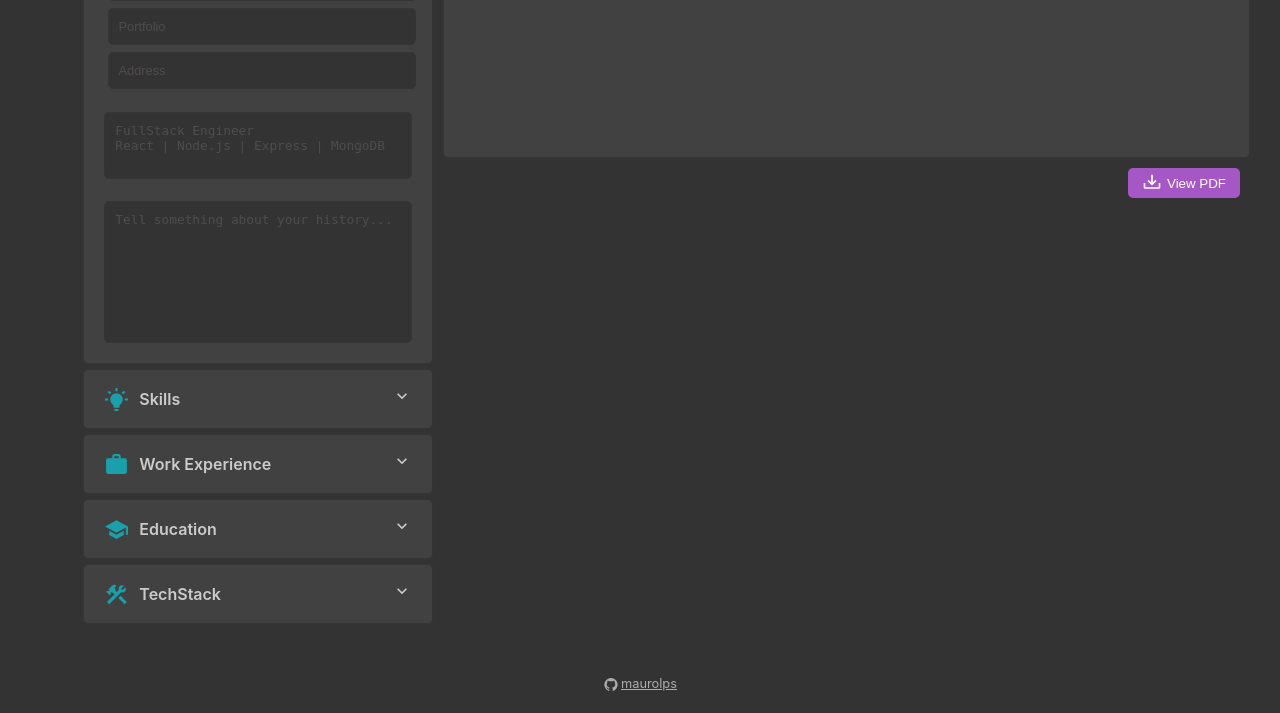
Test case: Card Collapse Behavior › Clicking on a card should toggle its expanded state
(page scrolled)
Click the button "Work Experience" at {"x": 258, "y": 464}, box [104,451,412,476]
(page scrolled)
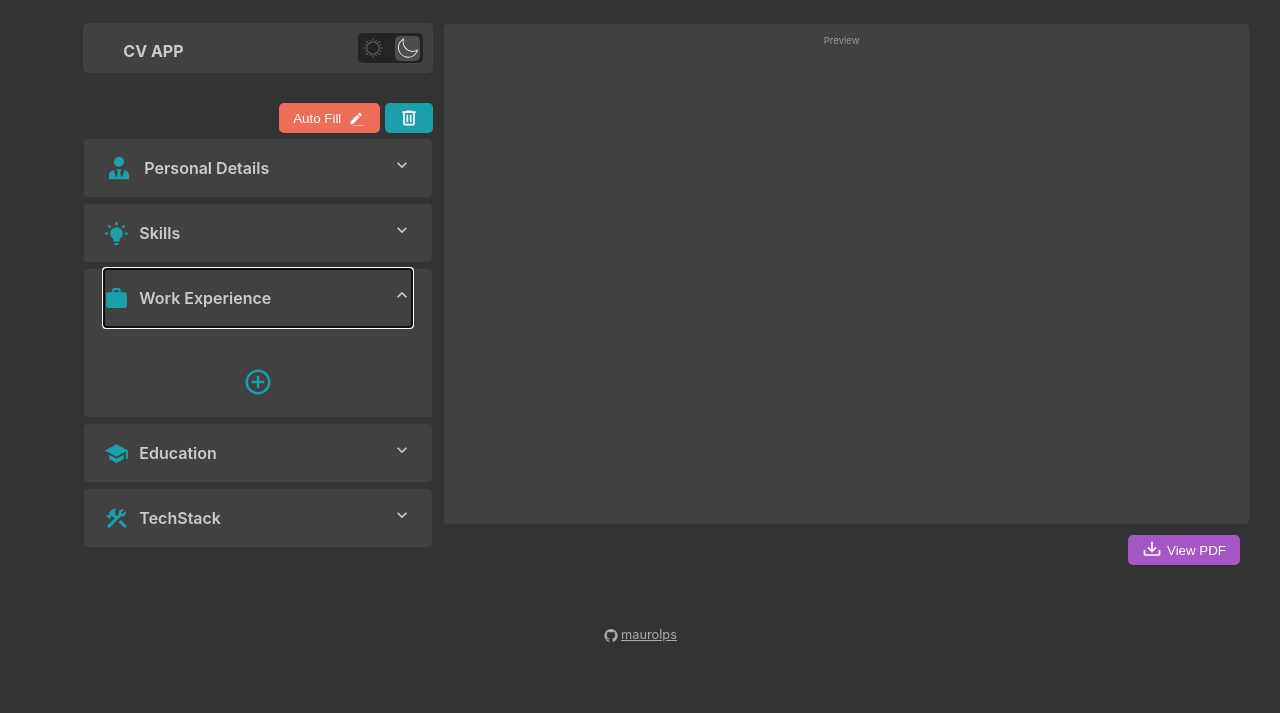
Now the button named "New Item" is shown, box [243,367,273,397]
